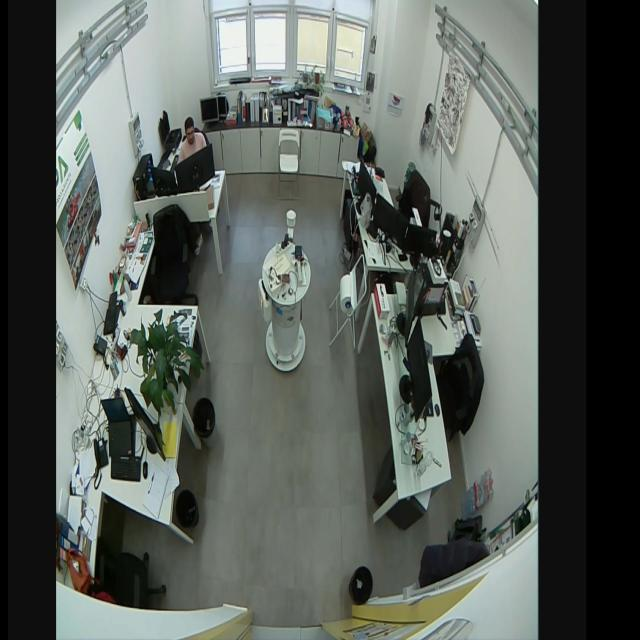Persona: (177, 112, 210, 167)
